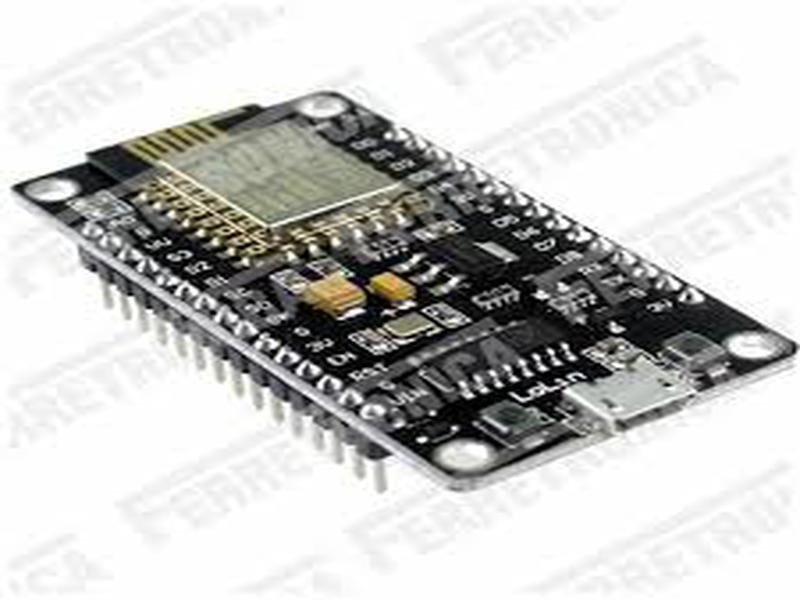ESP8266: (10, 93, 799, 510)
